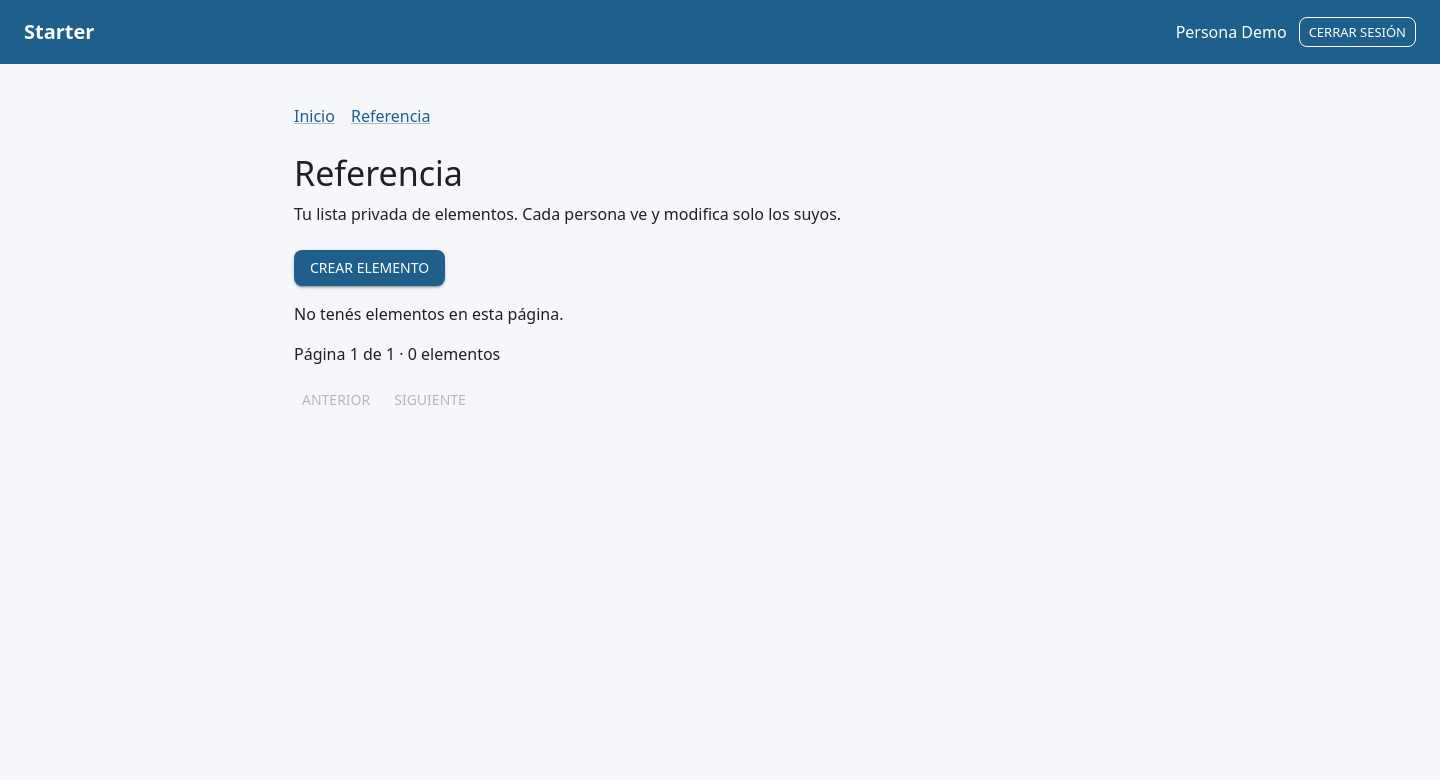
Test: ReferencePage › keeps real server field errors focused and requires explicit retry after a CSRF rejection
Expected: the text "No tenés elementos en esta página." is shown, [294, 304, 564, 326]
Click the button "Crear elemento": (370,268) [294, 250, 445, 286]
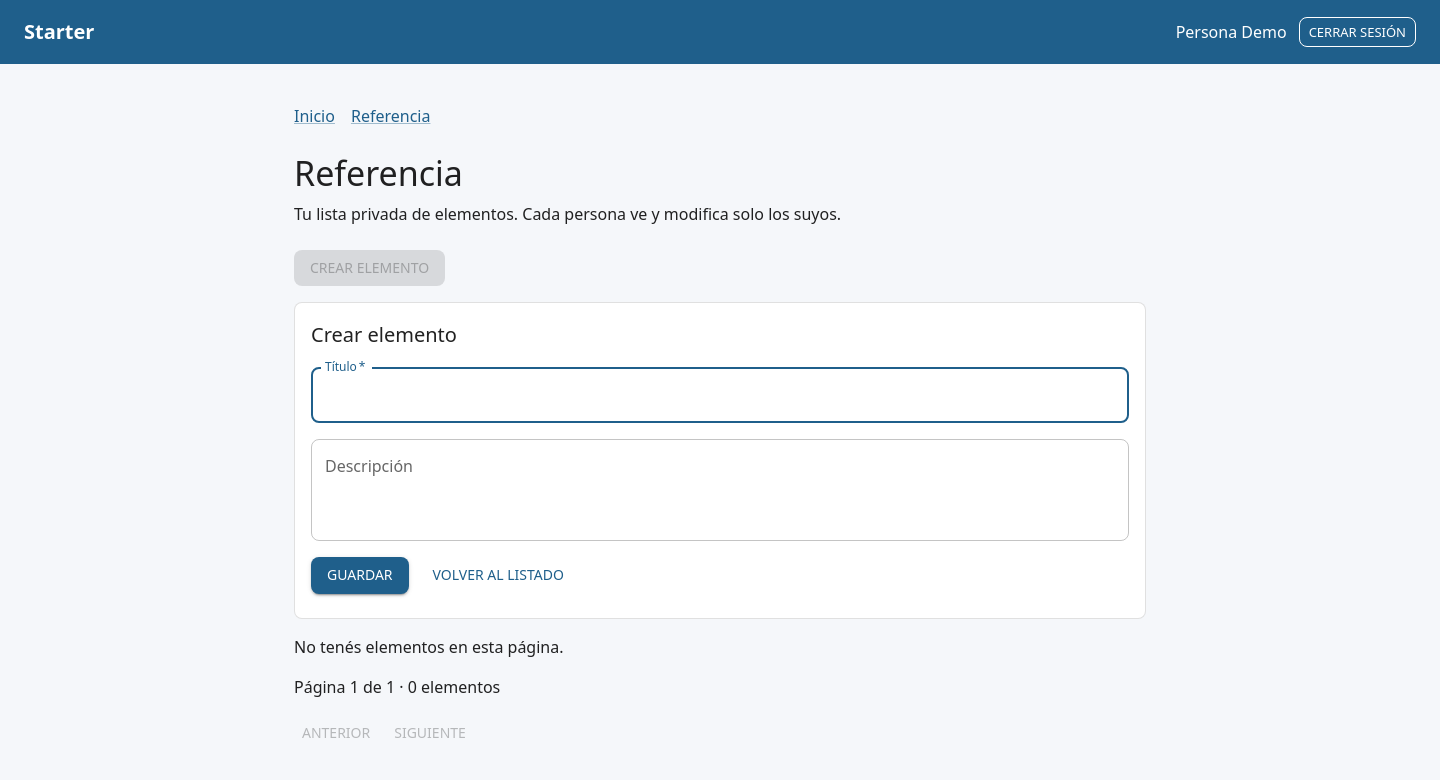
In the field labelled "Título *": (720,396) [311, 368, 1129, 424], type "Título"
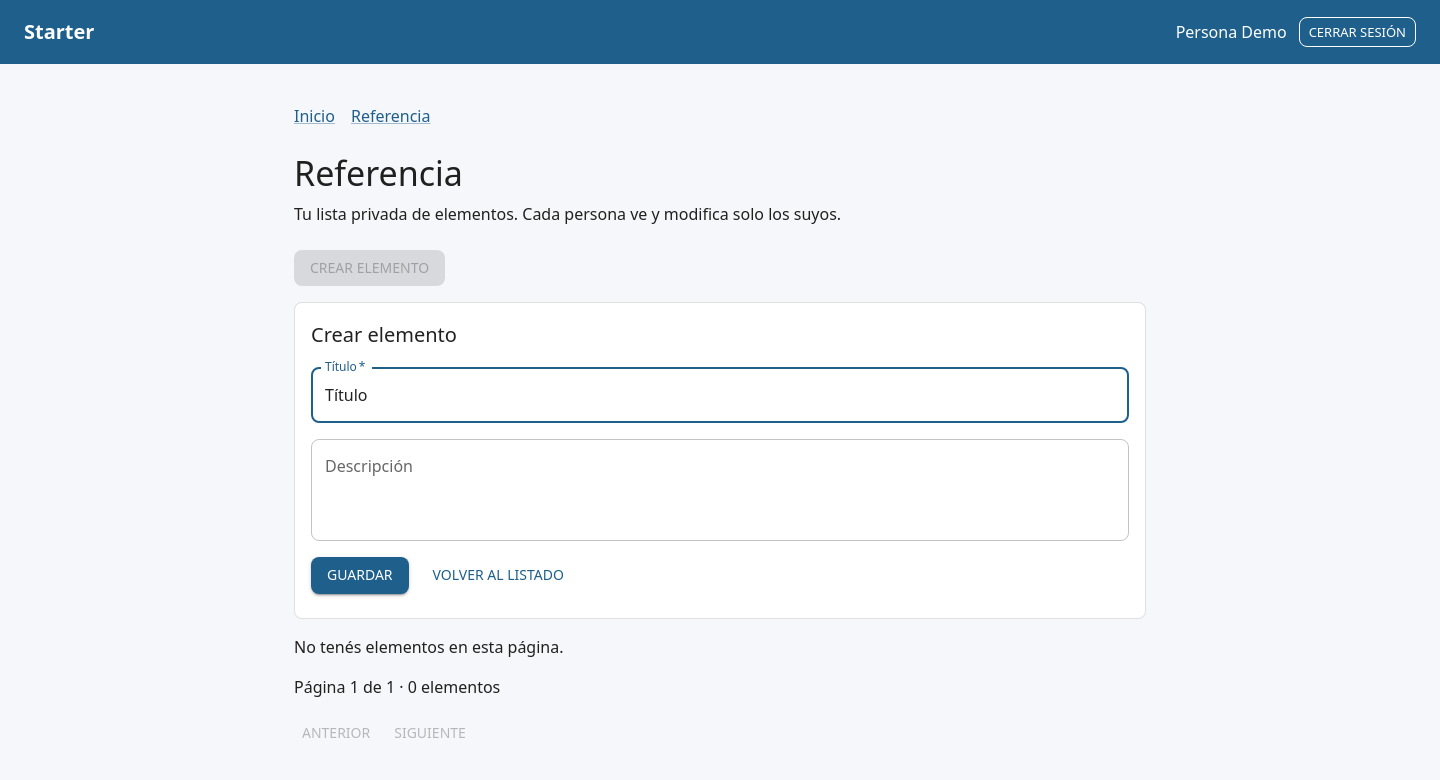
Click the button "Guardar": (360,576) [311, 558, 408, 594]
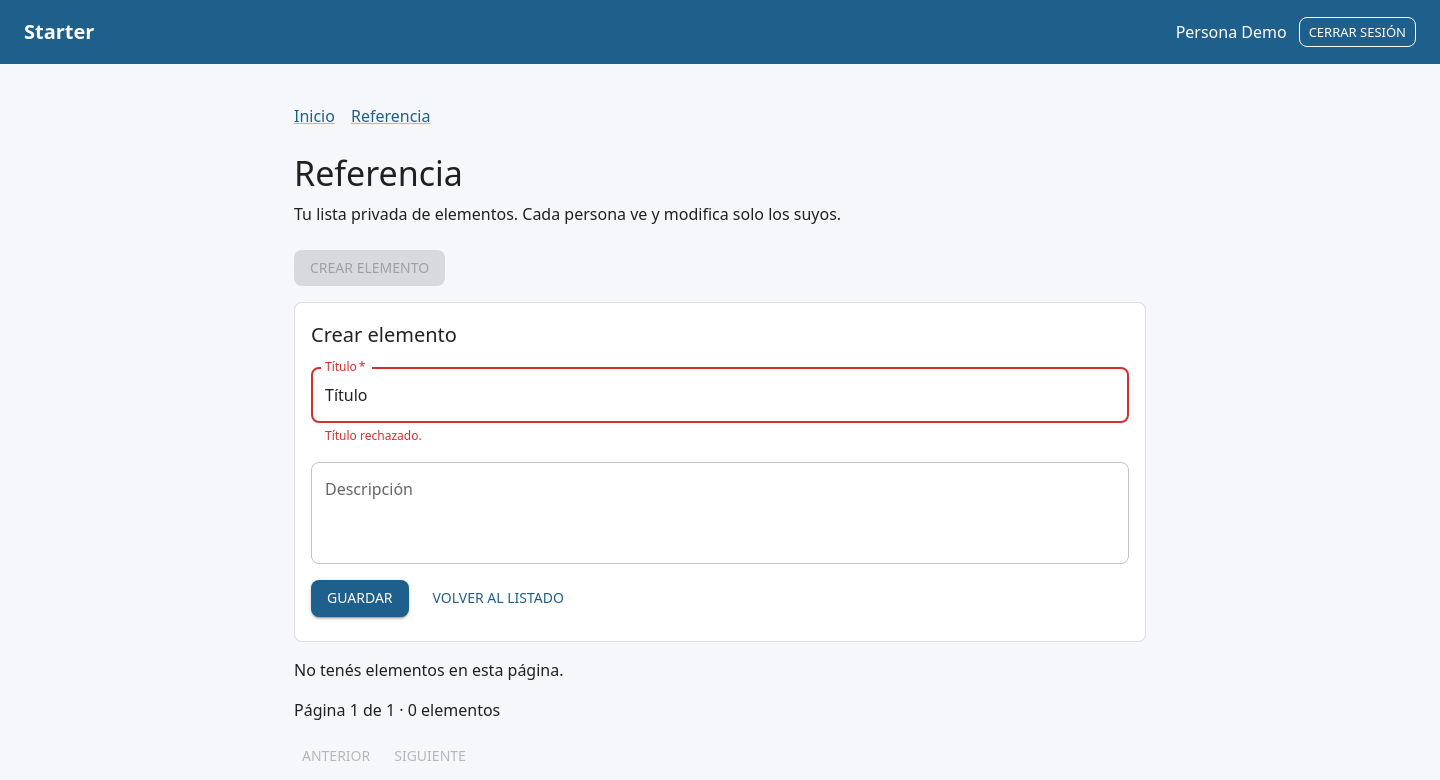
Result: the text "Título rechazado." is shown at [325, 428, 422, 444]
Click the button "Guardar": (360,599) [311, 580, 408, 617]
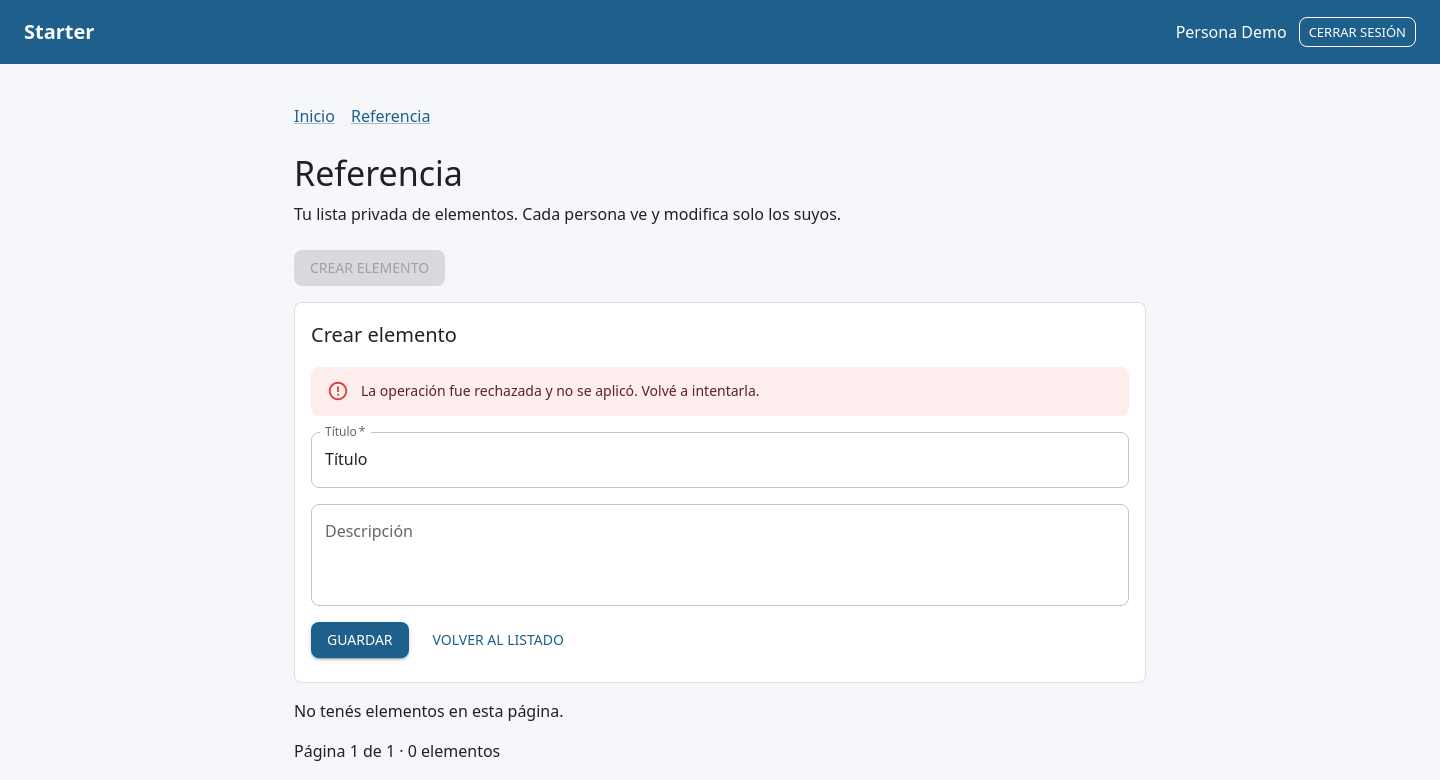
Expected: the button "Cerrar sesión" is shown, [1299, 17, 1416, 47]
Result: the text "La operación fue rechazada y no se aplicó. Volvé a intentarla." is shown at [361, 382, 760, 400]
Click the button "Guardar": (360,640) [311, 622, 408, 658]
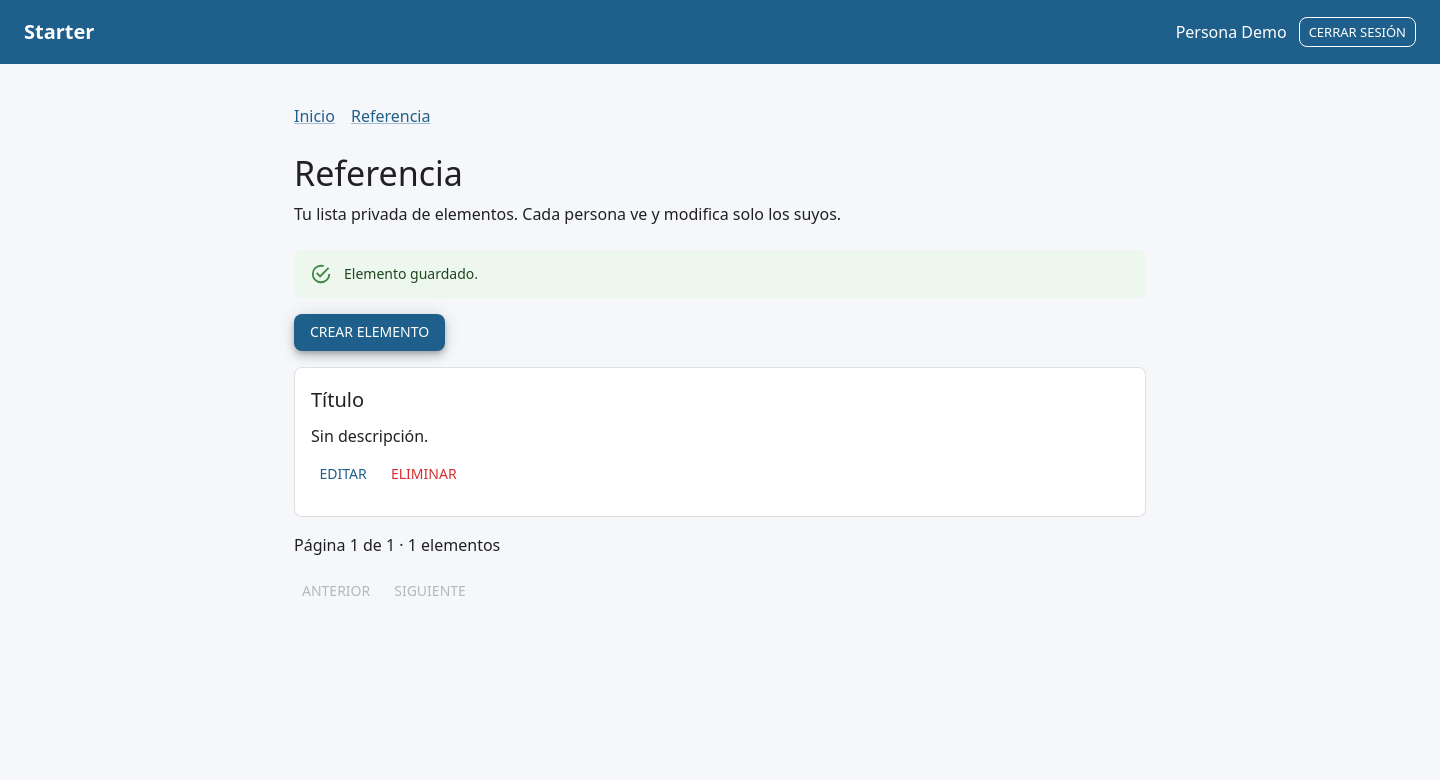
Result: the text "Elemento guardado." is shown at [344, 264, 478, 283]
